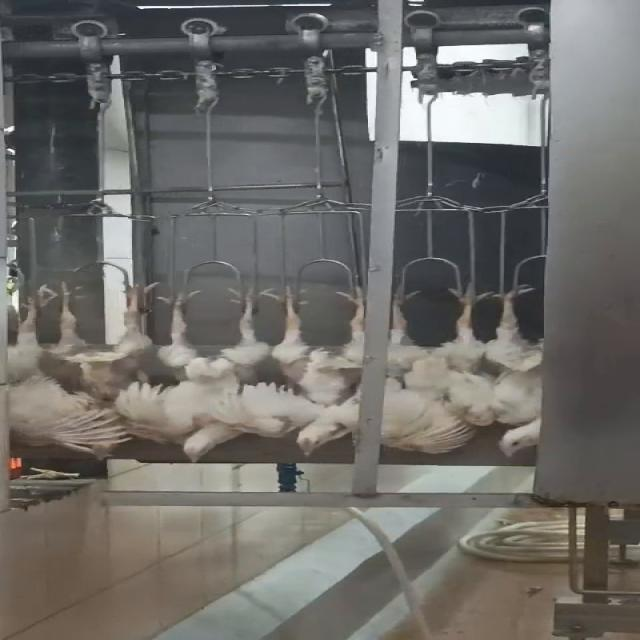chicken: (0, 279, 124, 463), (377, 274, 496, 456), (262, 277, 374, 458), (165, 282, 272, 462), (65, 274, 178, 440), (491, 279, 560, 458)
